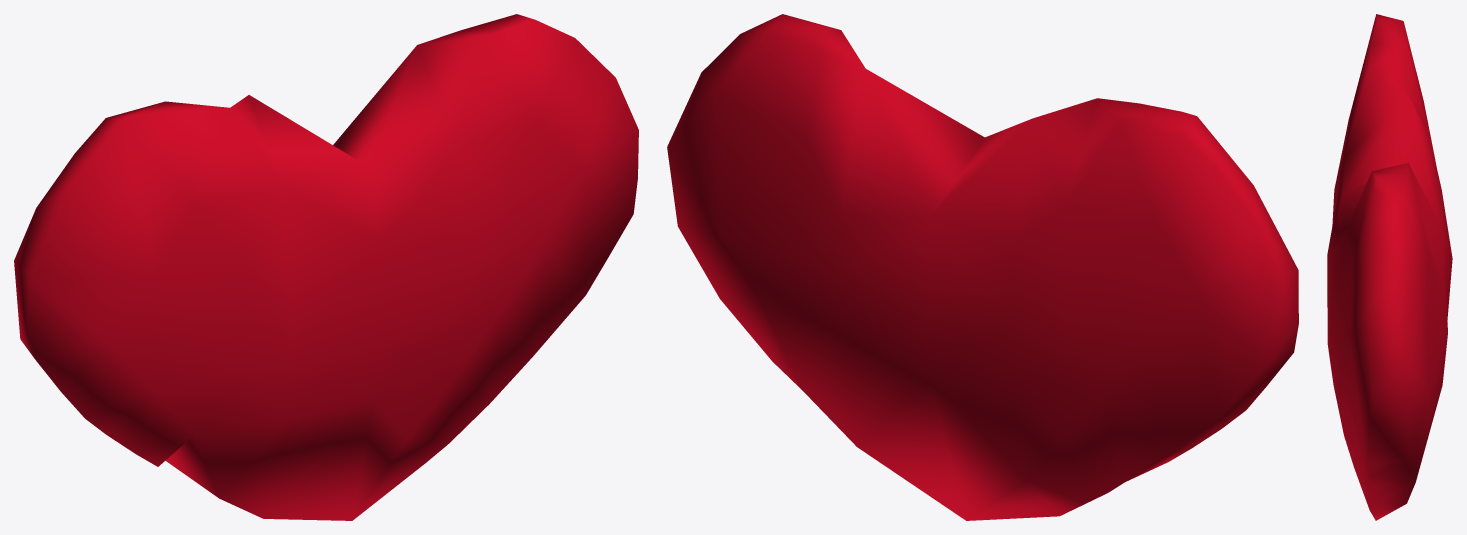
The model's file is Heart.obj.
3 views of the same model, side by side, from view 1: azimuth 30°, elevation 25°; view 2: azimuth 150°, elevation 25°; view 3: azimuth 270°, elevation 25° (orthographic). The views are drawn at different scales.
Visible parts, largest first — view 1: Plane.001; view 2: Plane.001; view 3: Plane.001.
Boxes of the visible parts, x1,y1,x2,y2 form: Plane.001: (14, 14, 638, 520); Plane.001: (667, 14, 1298, 520); Plane.001: (1327, 14, 1452, 520).
Bounding box in the file's own units: 1.2 × 0.8595 × 0.2385.
